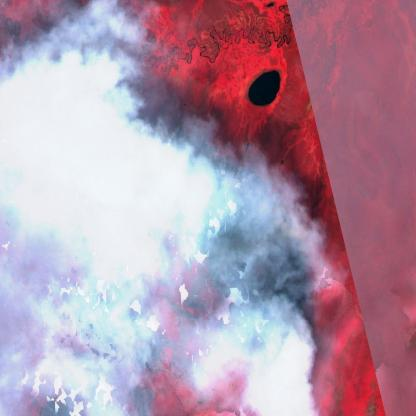fire: (112, 117, 314, 365)
